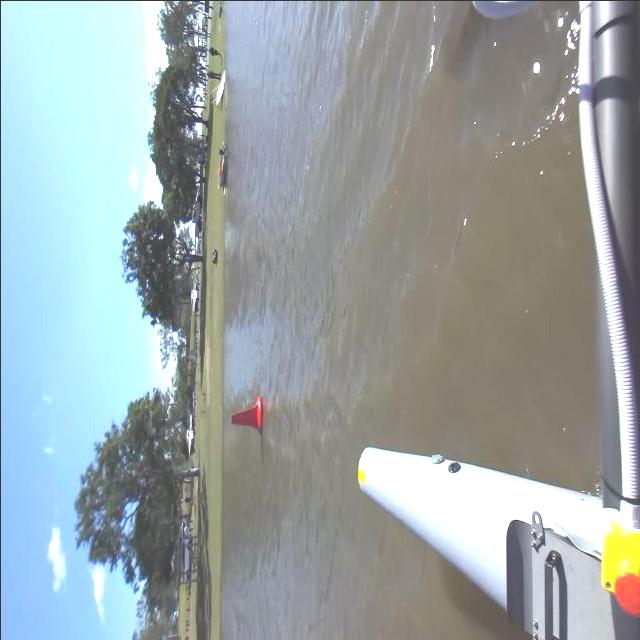Red_Buoy: (222, 390, 280, 430), (226, 394, 274, 428)
